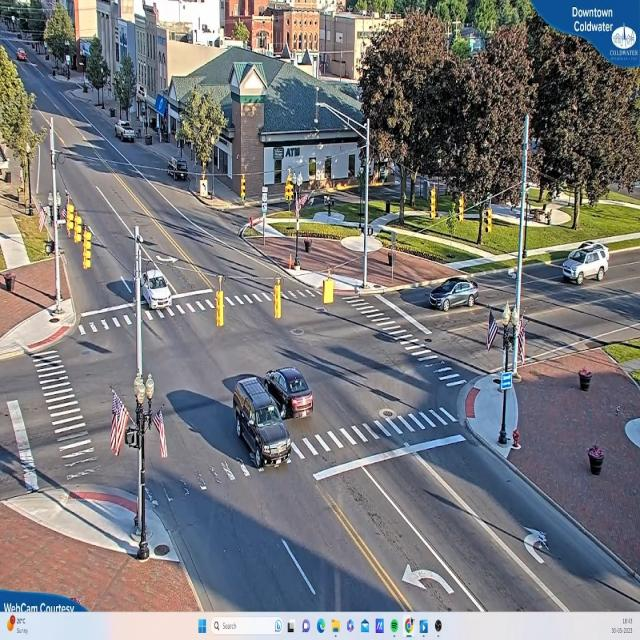car: (231, 377, 291, 468), (264, 368, 312, 420), (561, 243, 609, 284), (430, 281, 480, 313), (118, 121, 138, 143), (17, 51, 28, 62)
